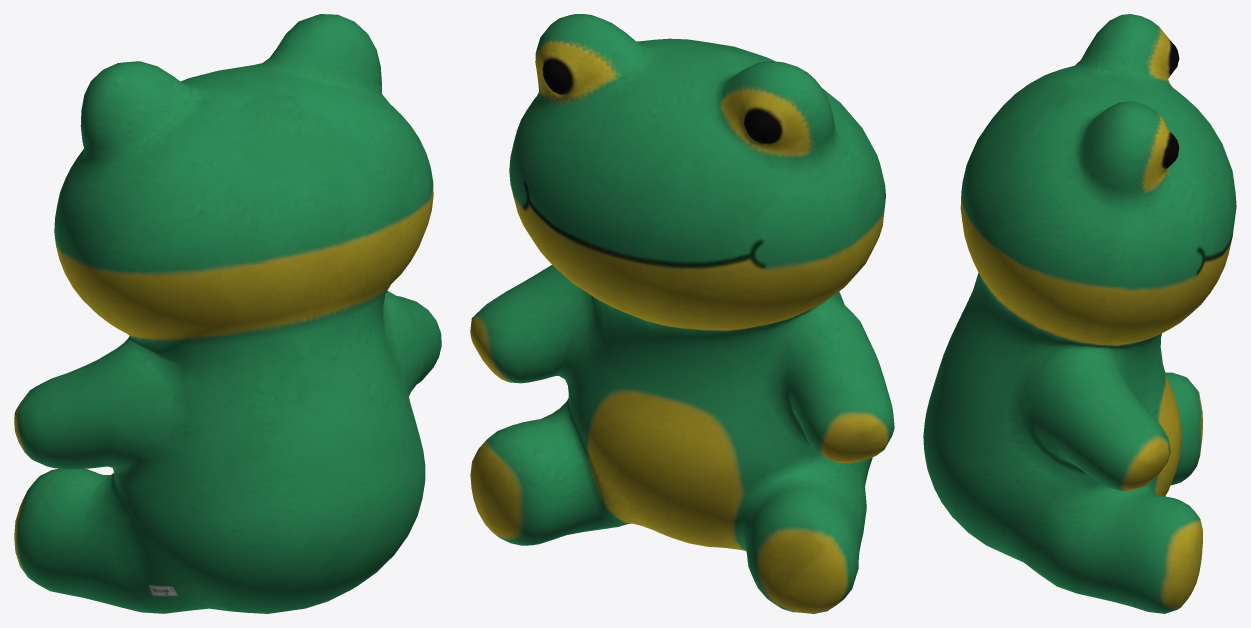
The model's file is plush_frog.glb.
3 views of the same model, side by side, from view 1: azimuth 30°, elevation 25°; view 2: azimuth 150°, elevation 25°; view 3: azimuth 270°, elevation 25° (orthographic). The views are drawn at different scales.
Visible parts, largest first — view 1: Object_2; view 2: Object_2; view 3: Object_2.
Boxes of the visible parts, left/top/right/bottom form: Object_2: left=14, top=14, right=441, bottom=613; Object_2: left=470, top=14, right=894, bottom=613; Object_2: left=923, top=14, right=1236, bottom=613.
Bounding box in the file's own units: 3.1 × 3.73 × 2.19.
1 material, 1 textured.
